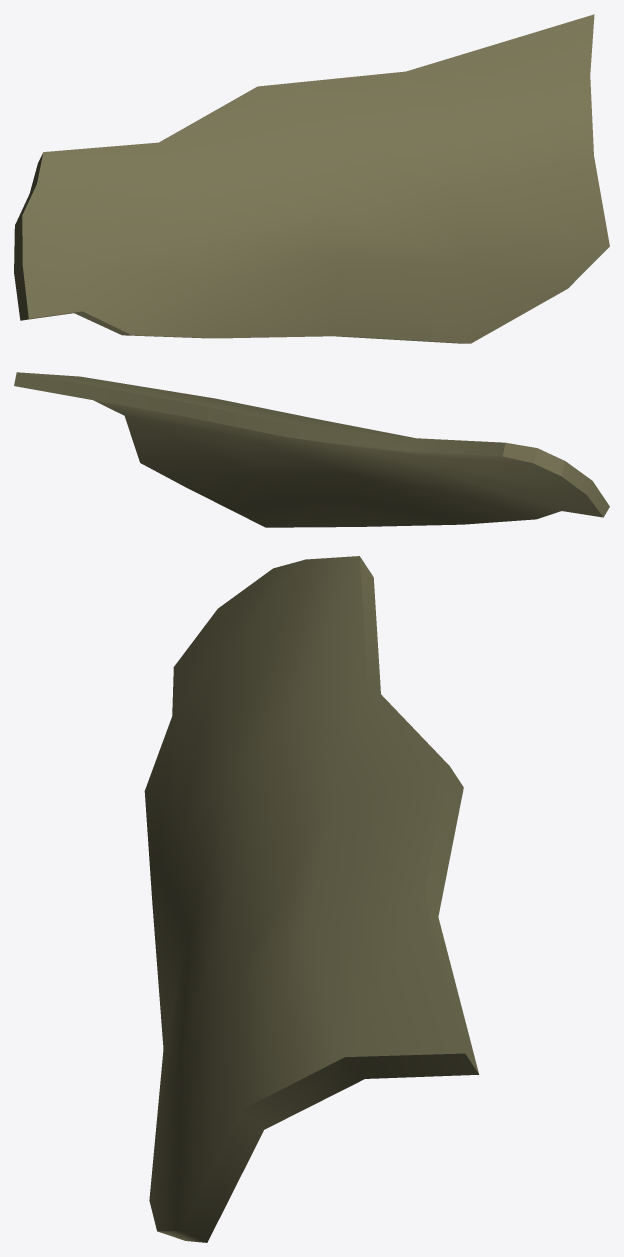
The model's file is shupi2.fbx.
3 renders of one model, top to bottom at view 1: azimuth 30°, elevation 25°; view 2: azimuth 150°, elevation 25°; view 3: azimuth 270°, elevation 25°, orthographic. The views are drawn at different scales.
Parts seen in each view (by area): view 1: pasted__pasted__pPipe2; view 2: pasted__pasted__pPipe2; view 3: pasted__pasted__pPipe2.
Boxes of the visible parts, box(x1,y1,x2,y2) form: pasted__pasted__pPipe2: box(14, 14, 609, 343); pasted__pasted__pPipe2: box(14, 372, 609, 527); pasted__pasted__pPipe2: box(144, 556, 478, 1242).
Size of the model in its own units: 6.44 by 2.22 by 1.79.
